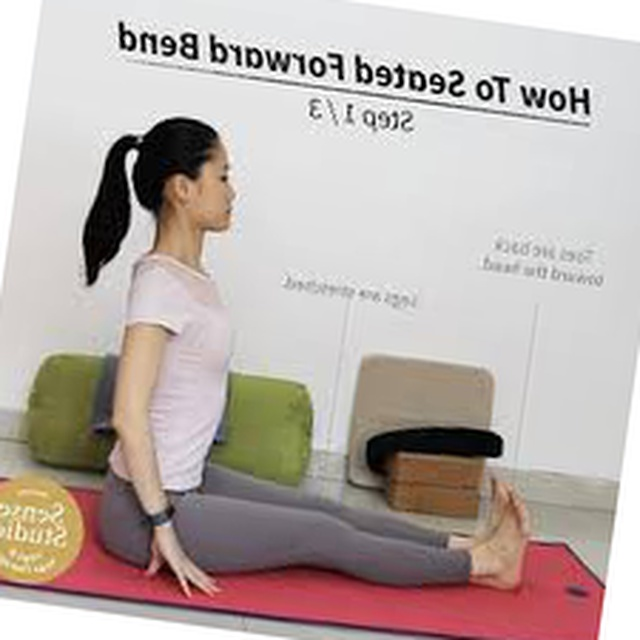Staff_Pose: (80, 116, 531, 600)
